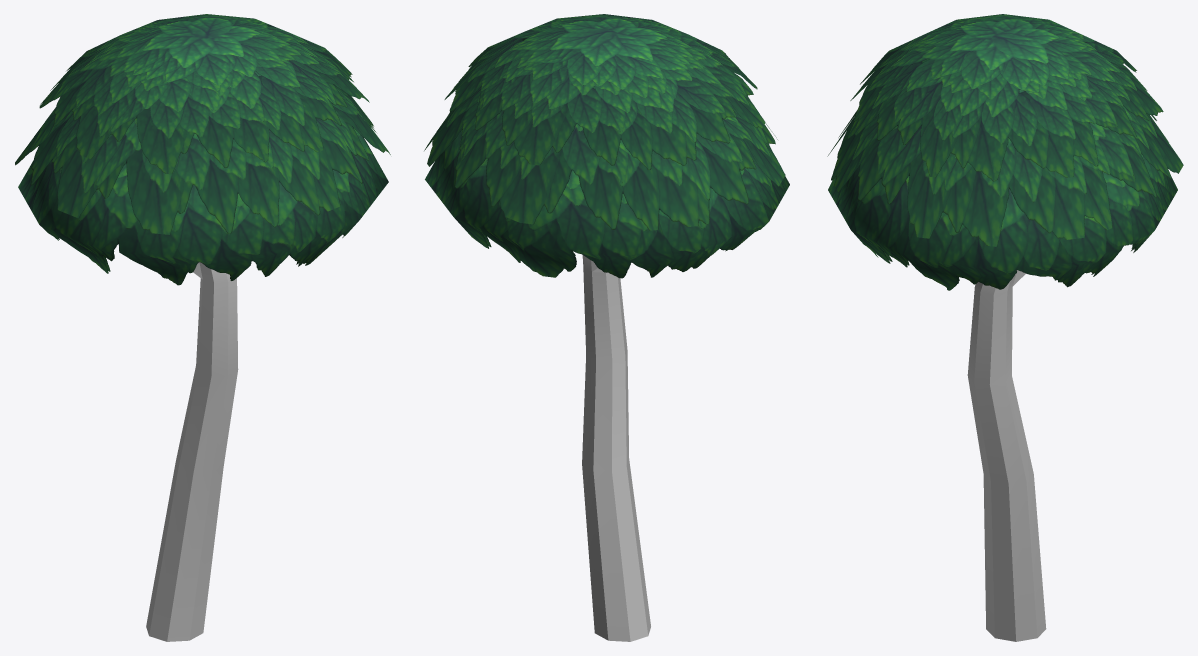
File: Asset_Tree_B_01.fbx
3 views of the same model, side by side, from view 1: azimuth 30°, elevation 25°; view 2: azimuth 150°, elevation 25°; view 3: azimuth 270°, elevation 25° (orthographic). The views are drawn at different scales.
Parts seen in each view (by area): view 1: Tree_02_déplier2; view 2: Tree_02_déplier2; view 3: Tree_02_déplier2.
Part boxes in pixels (x1=…): Tree_02_déplier2: x1=15, y1=14, x2=390, y2=641; Tree_02_déplier2: x1=424, y1=14, x2=789, y2=641; Tree_02_déplier2: x1=827, y1=14, x2=1183, y2=641.
Size of the model in its own units: 7.86 by 13.4 by 7.27.
